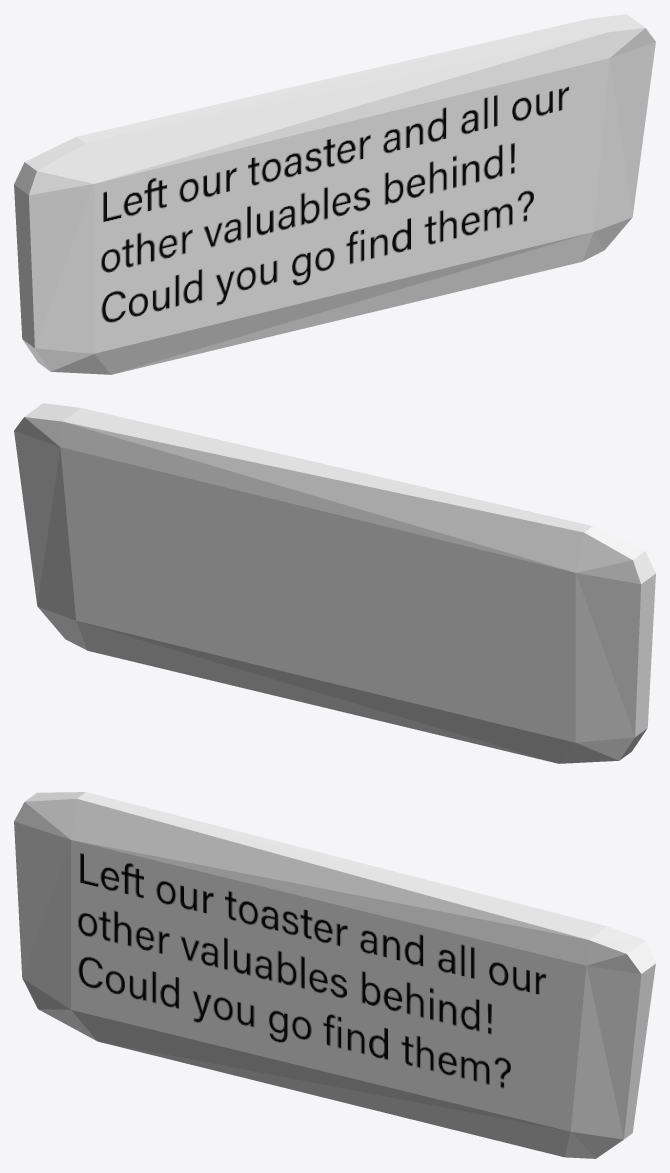
The model's file is 042620ant05textBubbleTextured.gltf.
3 renders of one model, top to bottom at view 1: azimuth 30°, elevation 25°; view 2: azimuth 150°, elevation 25°; view 3: azimuth 330°, elevation 25°, orthographic.
Visible parts, largest first — view 1: ant05; view 2: ant05; view 3: ant05.
Boxes of the visible parts, x1,y1,x2,y2 form: ant05: (14, 14, 655, 374); ant05: (14, 403, 655, 763); ant05: (14, 792, 655, 1158).
Bounding box in the file's own units: 6.42 × 2.3 × 0.4079.
Materials: 1 (1 with a texture image).
